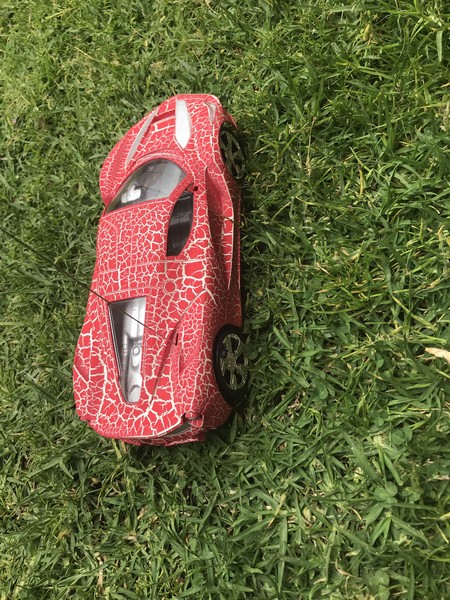RC: (73, 93, 251, 451)
